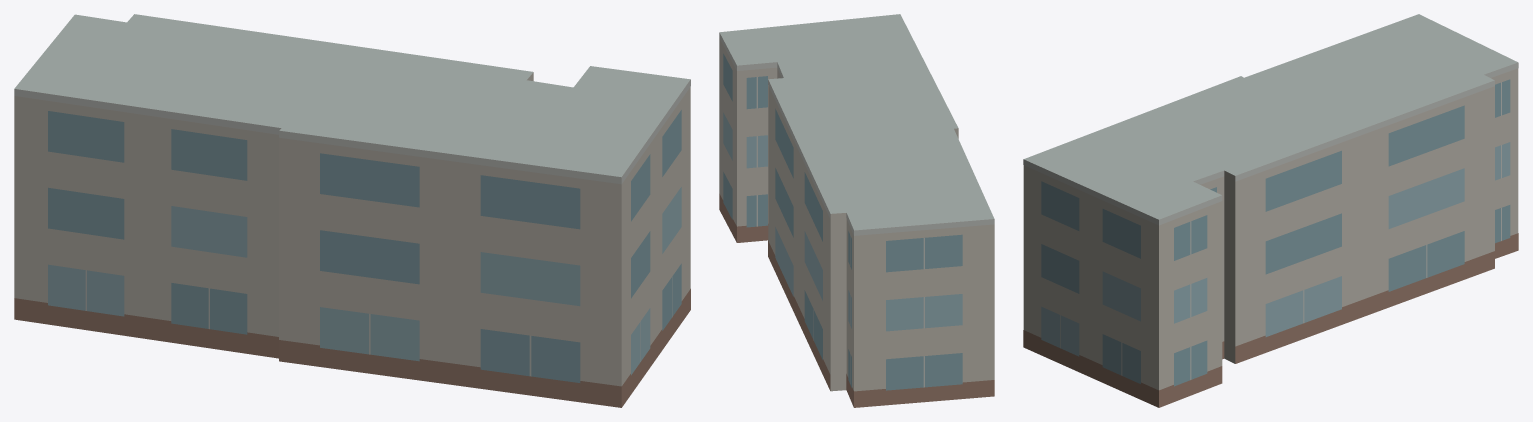
The model's file is survey-upis-32987728.glb.
The picture shows the model from 3 angles, left to right: view 1: azimuth 30°, elevation 25°; view 2: azimuth 150°, elevation 25°; view 3: azimuth 270°, elevation 25°; orthographic projection. The views are drawn at different scales.
Visible parts, largest first — view 1: survey-upis-32987728.tmp; view 2: survey-upis-32987728.tmp; view 3: survey-upis-32987728.tmp.
Part boxes in pixels (x1=…): survey-upis-32987728.tmp: x1=14, y1=14, x2=690, y2=407; survey-upis-32987728.tmp: x1=719, y1=14, x2=994, y2=407; survey-upis-32987728.tmp: x1=1023, y1=14, x2=1518, y2=407.
Bounding box in the file's own units: 18.66 × 7.95 × 18.96.
